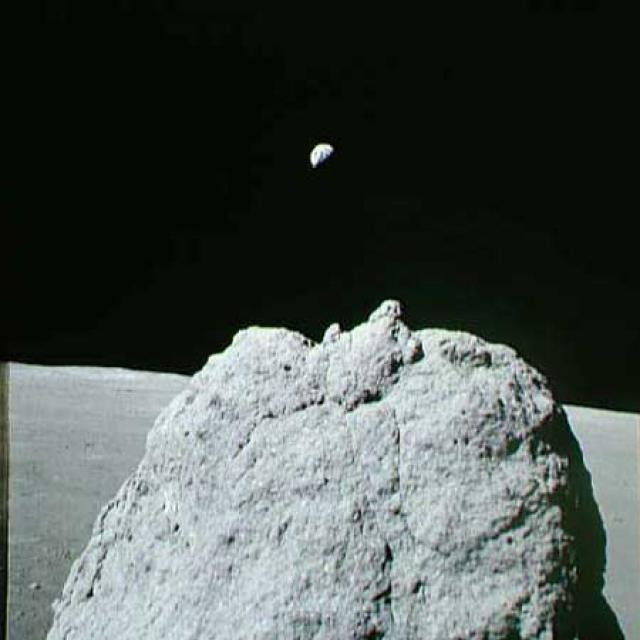rock: (44, 291, 597, 639)
